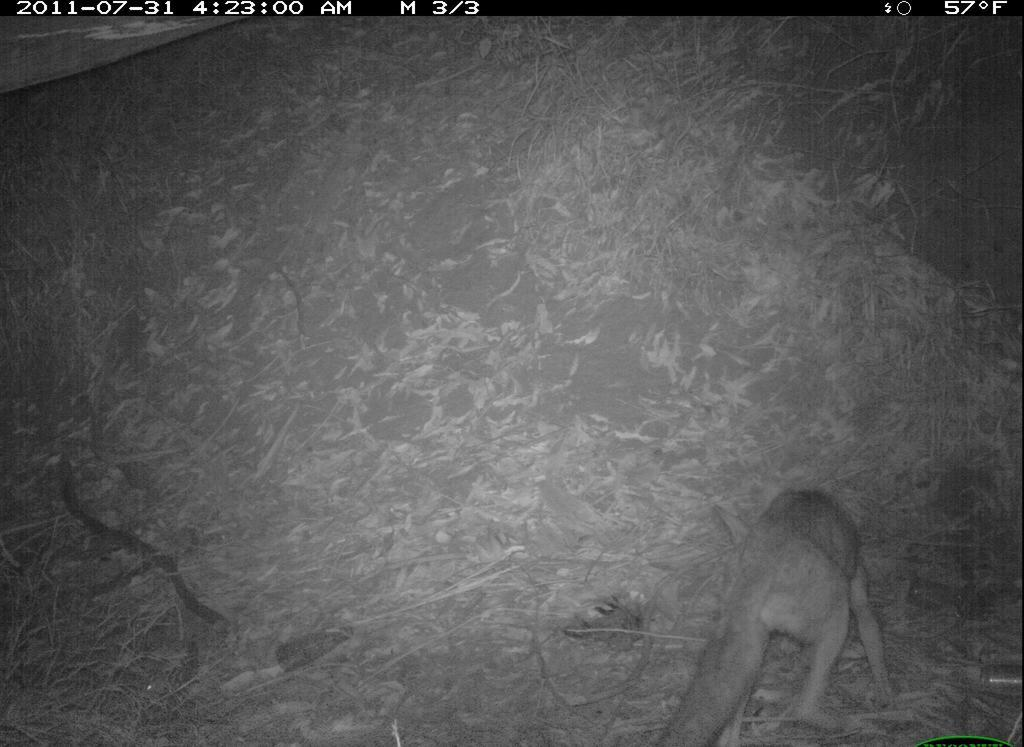coyote: (653, 484, 898, 747)
